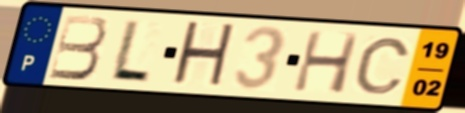3: (234, 24, 291, 93)
B: (46, 13, 110, 82)
C: (351, 35, 413, 96)
H: (168, 19, 239, 92), (290, 29, 363, 96)
L: (106, 17, 154, 85)
